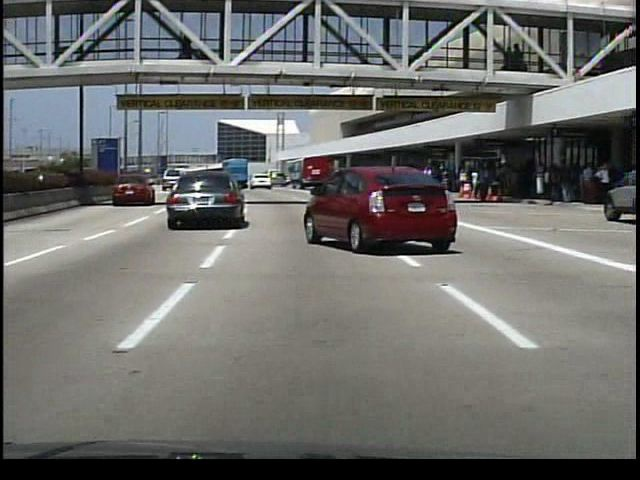person: (477, 162, 493, 204), (179, 31, 195, 63)
